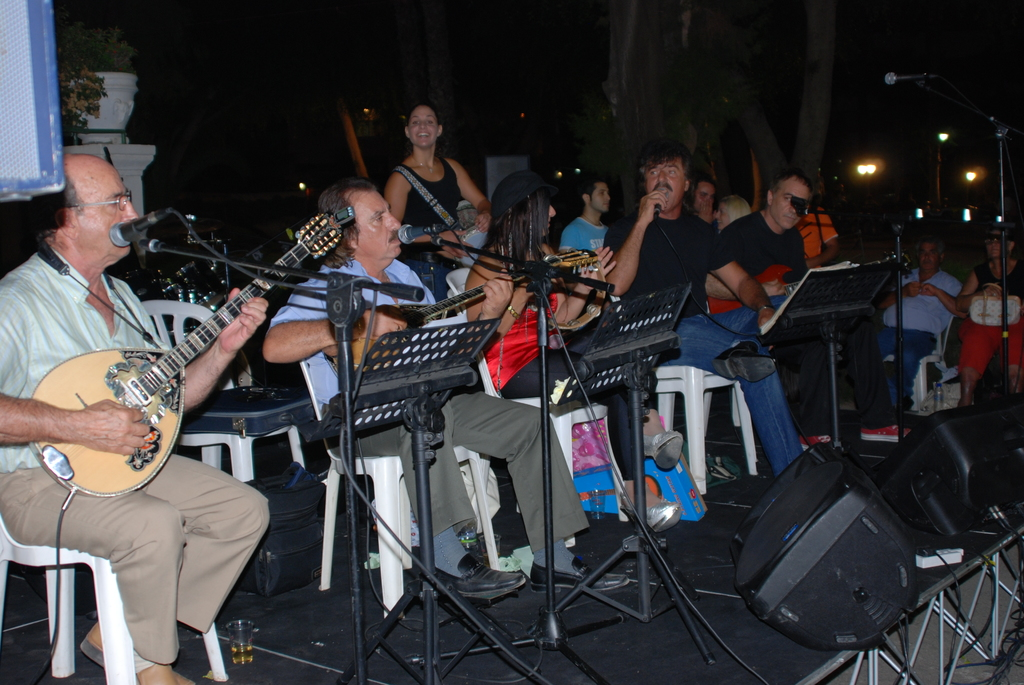Human_hand: (55, 381, 129, 477), (211, 286, 270, 358), (575, 244, 619, 292), (356, 307, 410, 346), (480, 271, 513, 319), (438, 227, 476, 264), (636, 187, 670, 227), (760, 280, 787, 299), (473, 211, 494, 235), (758, 306, 775, 333), (984, 282, 1005, 303), (700, 197, 716, 224), (900, 280, 920, 301), (919, 282, 936, 299)
